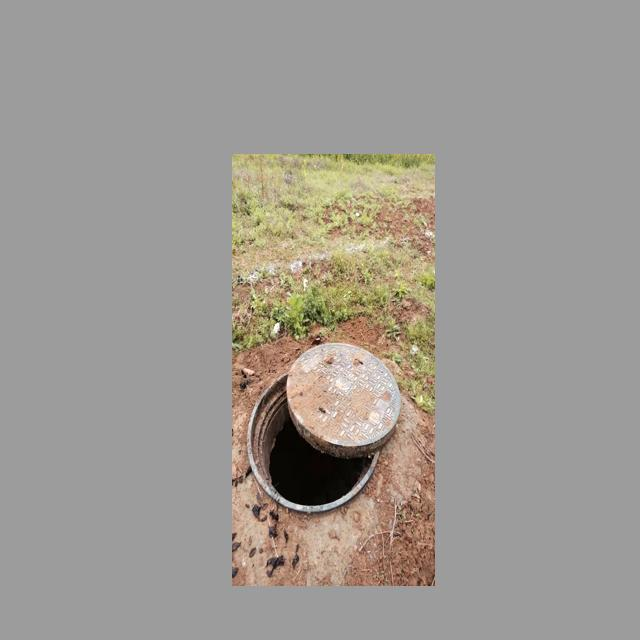uncovered: (245, 343, 404, 516)
